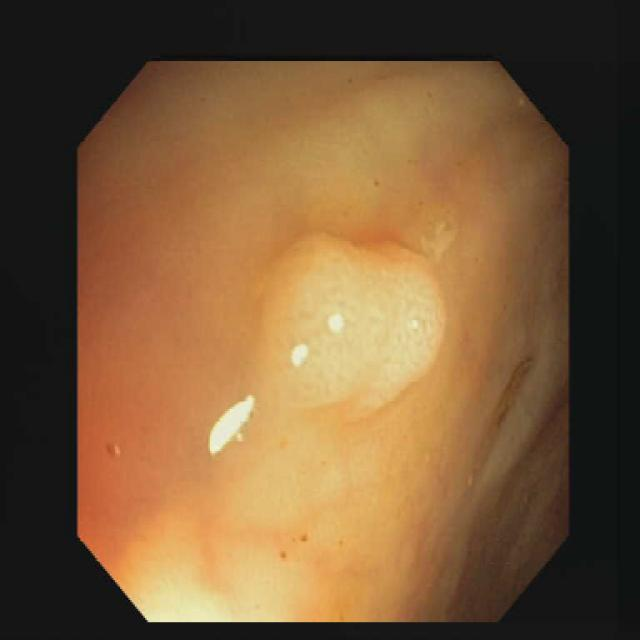tumor: (263, 233, 442, 418)
